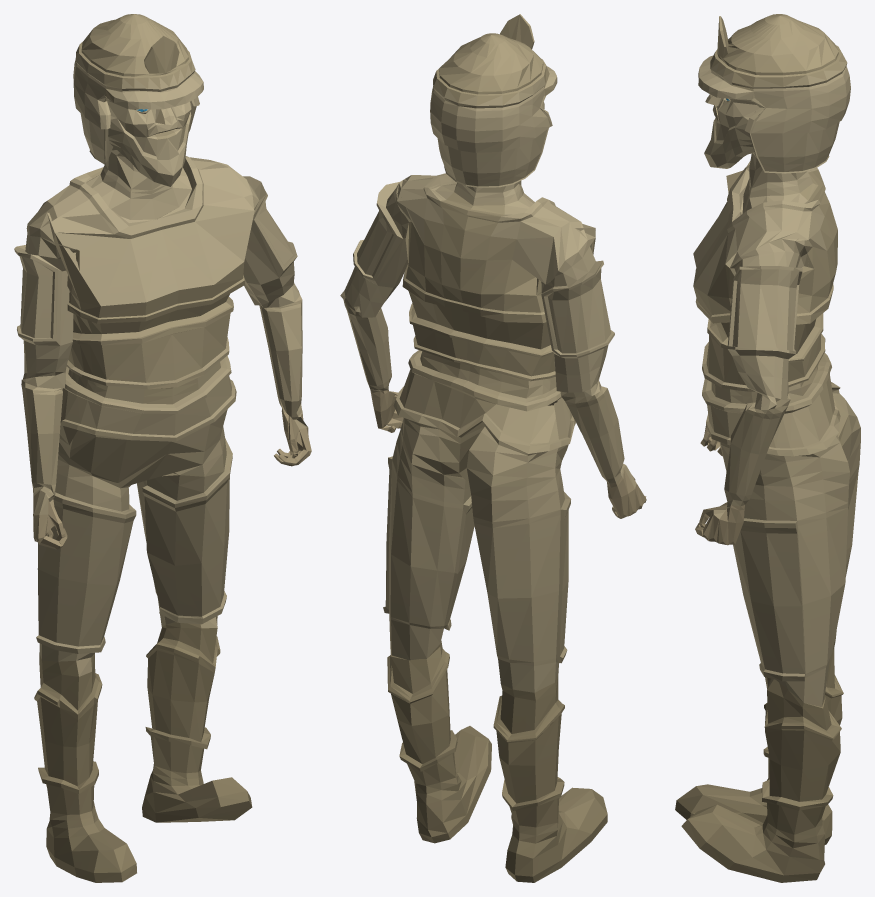
The model's file is mummy.glb.
The picture shows the model from 3 angles, left to right: view 1: azimuth 30°, elevation 25°; view 2: azimuth 150°, elevation 25°; view 3: azimuth 270°, elevation 25°; orthographic projection. The views are drawn at different scales.
Visible parts, largest first — view 1: geometry_0; view 2: geometry_0; view 3: geometry_0.
Part boxes in pixels (x1=…): geometry_0: x1=14, y1=14, x2=311, y2=882; geometry_0: x1=340, y1=14, x2=646, y2=882; geometry_0: x1=675, y1=14, x2=860, y2=882.
Size of the model in its own units: 5.16 by 14.48 by 2.86.
